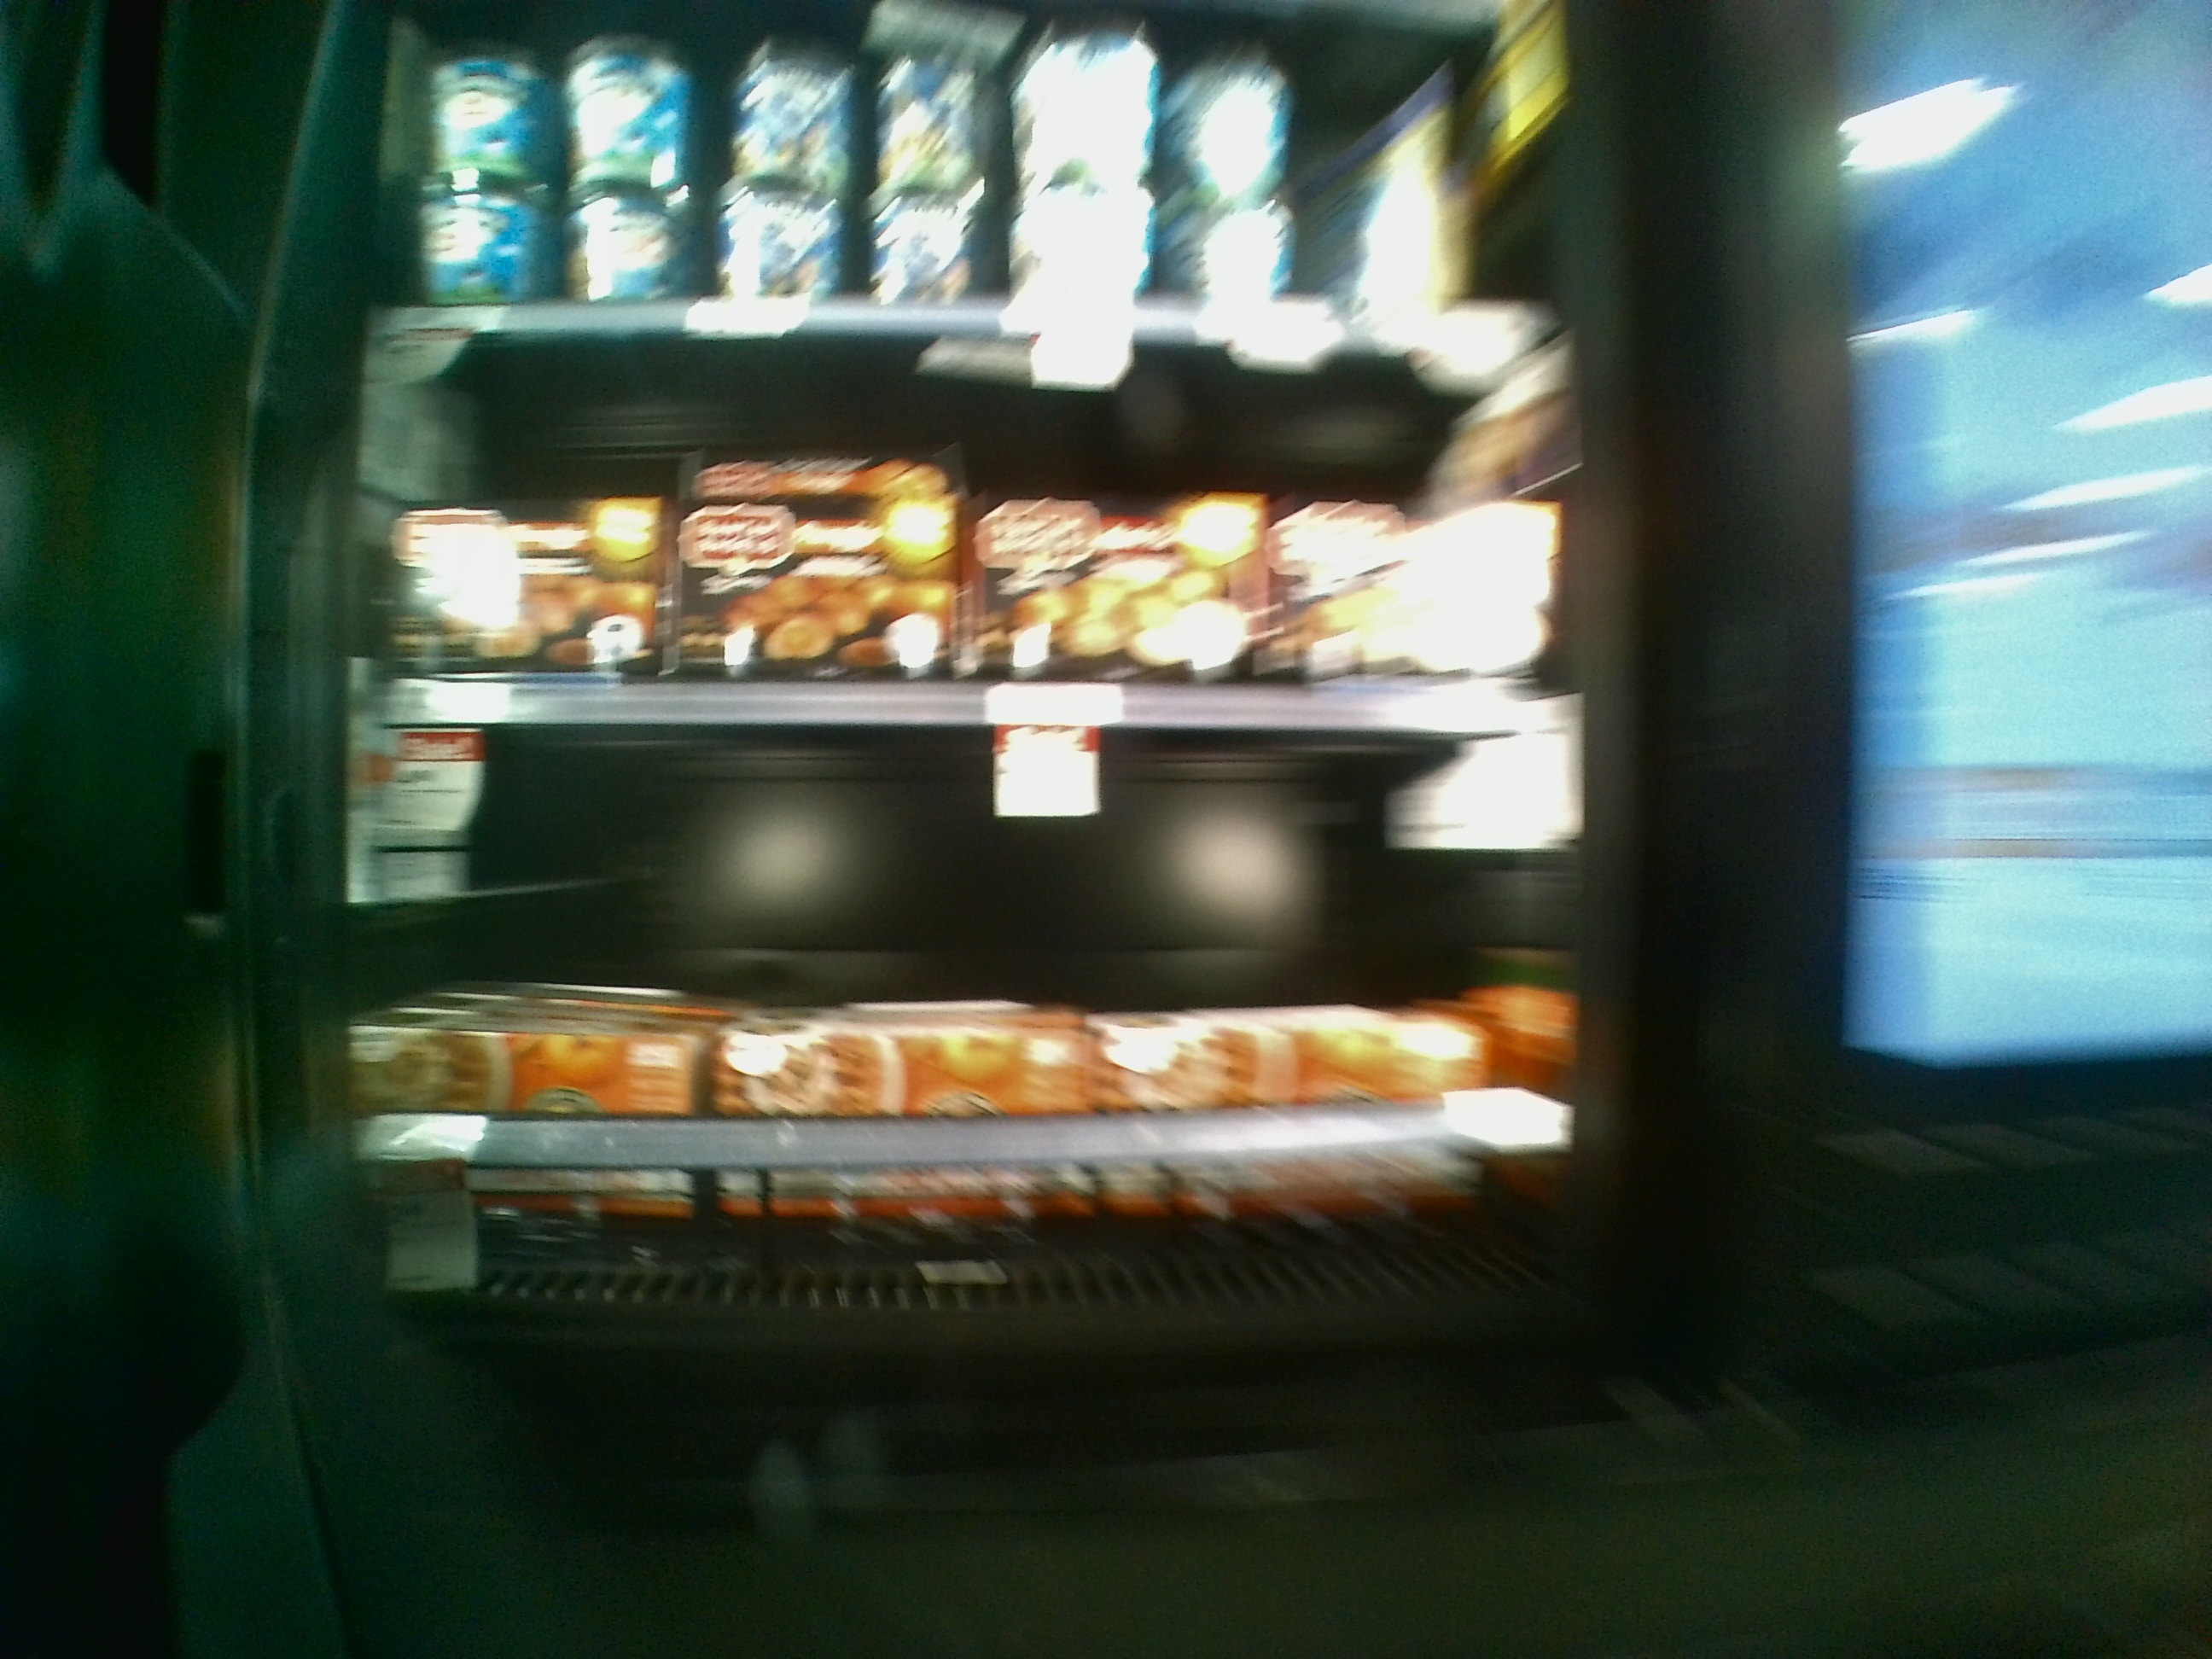shelf: (359, 685, 1581, 1330), (364, 310, 1594, 735)
